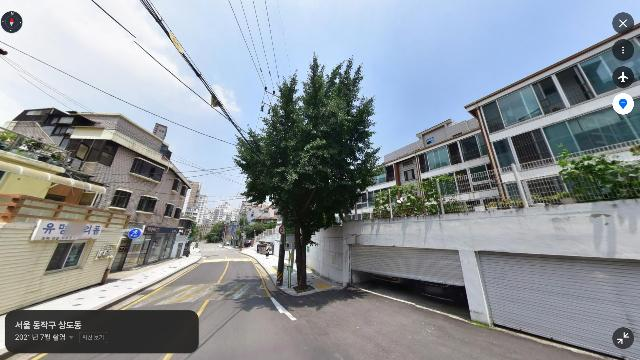other: (232, 52, 384, 292), (204, 222, 224, 244)
